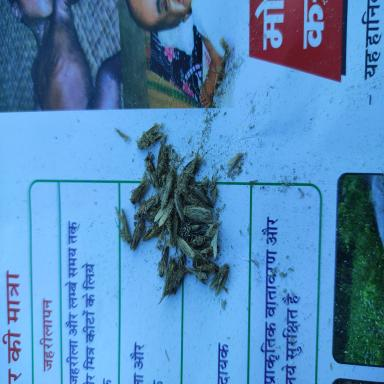pbw: (134, 123, 163, 149), (115, 205, 132, 246), (153, 196, 174, 228), (210, 262, 230, 295), (129, 176, 151, 204), (129, 216, 146, 251), (182, 204, 213, 223), (159, 170, 175, 206), (143, 151, 158, 186), (175, 236, 196, 258), (156, 247, 170, 278), (195, 242, 221, 257), (193, 260, 219, 275)
